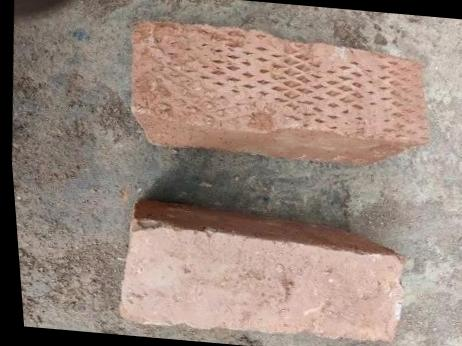brick: (113, 221, 409, 343), (124, 27, 433, 142)
